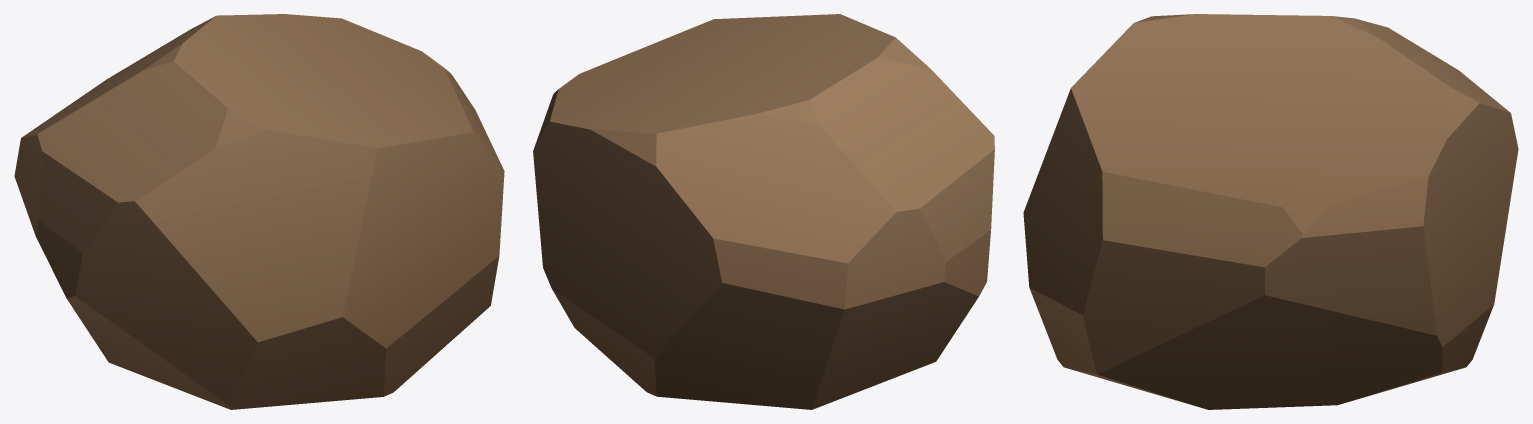
Rendered from Rock_03.fbx.
3 renders of one model, left to right at view 1: azimuth 30°, elevation 25°; view 2: azimuth 150°, elevation 25°; view 3: azimuth 270°, elevation 25°, orthographic. The views are drawn at different scales.
Parts seen in each view (by area): view 1: Rock_03; view 2: Rock_03; view 3: Rock_03.
Boxes of the visible parts, x1=… form: Rock_03: x1=14, y1=14, x2=504, y2=409; Rock_03: x1=533, y1=14, x2=994, y2=409; Rock_03: x1=1023, y1=14, x2=1518, y2=409.
Size of the model in its own units: 99.96 by 63.39 by 94.23.
